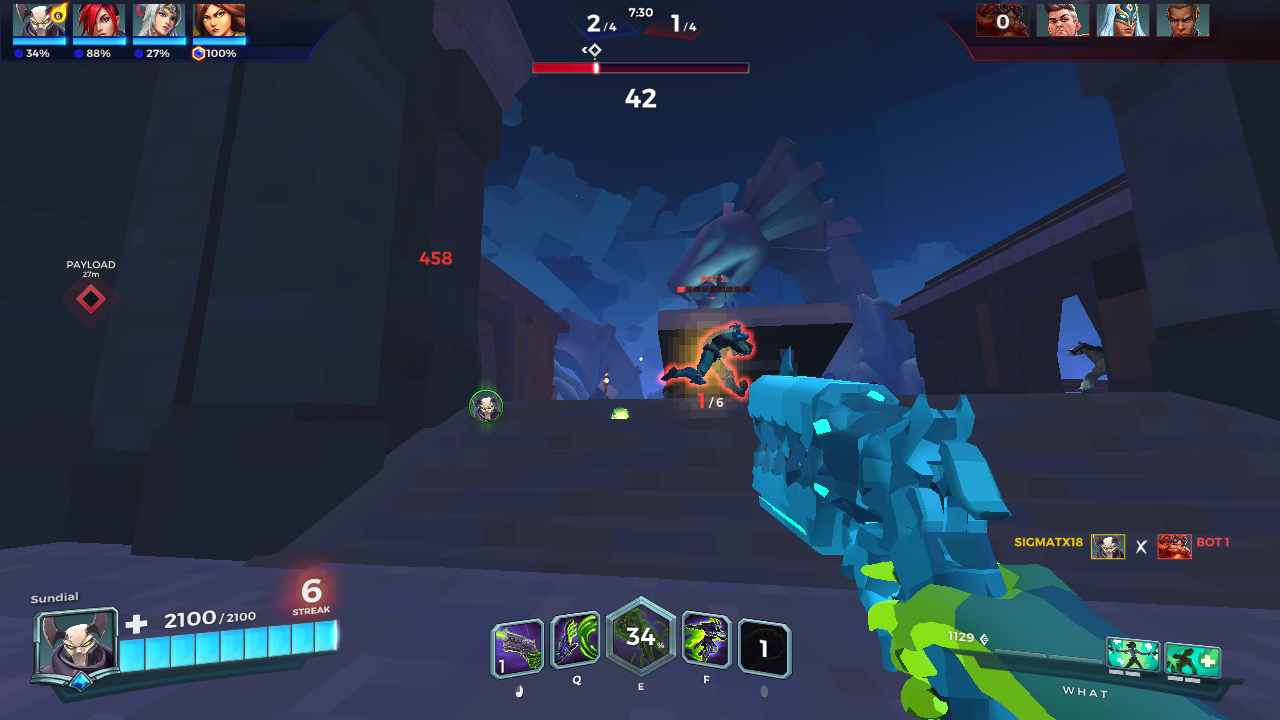model: (684, 313, 759, 388)
